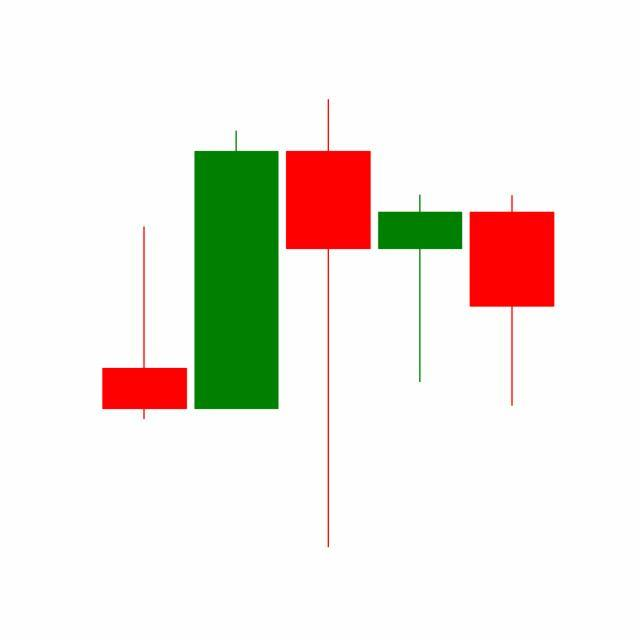Hanging Man: (374, 192, 468, 385)
